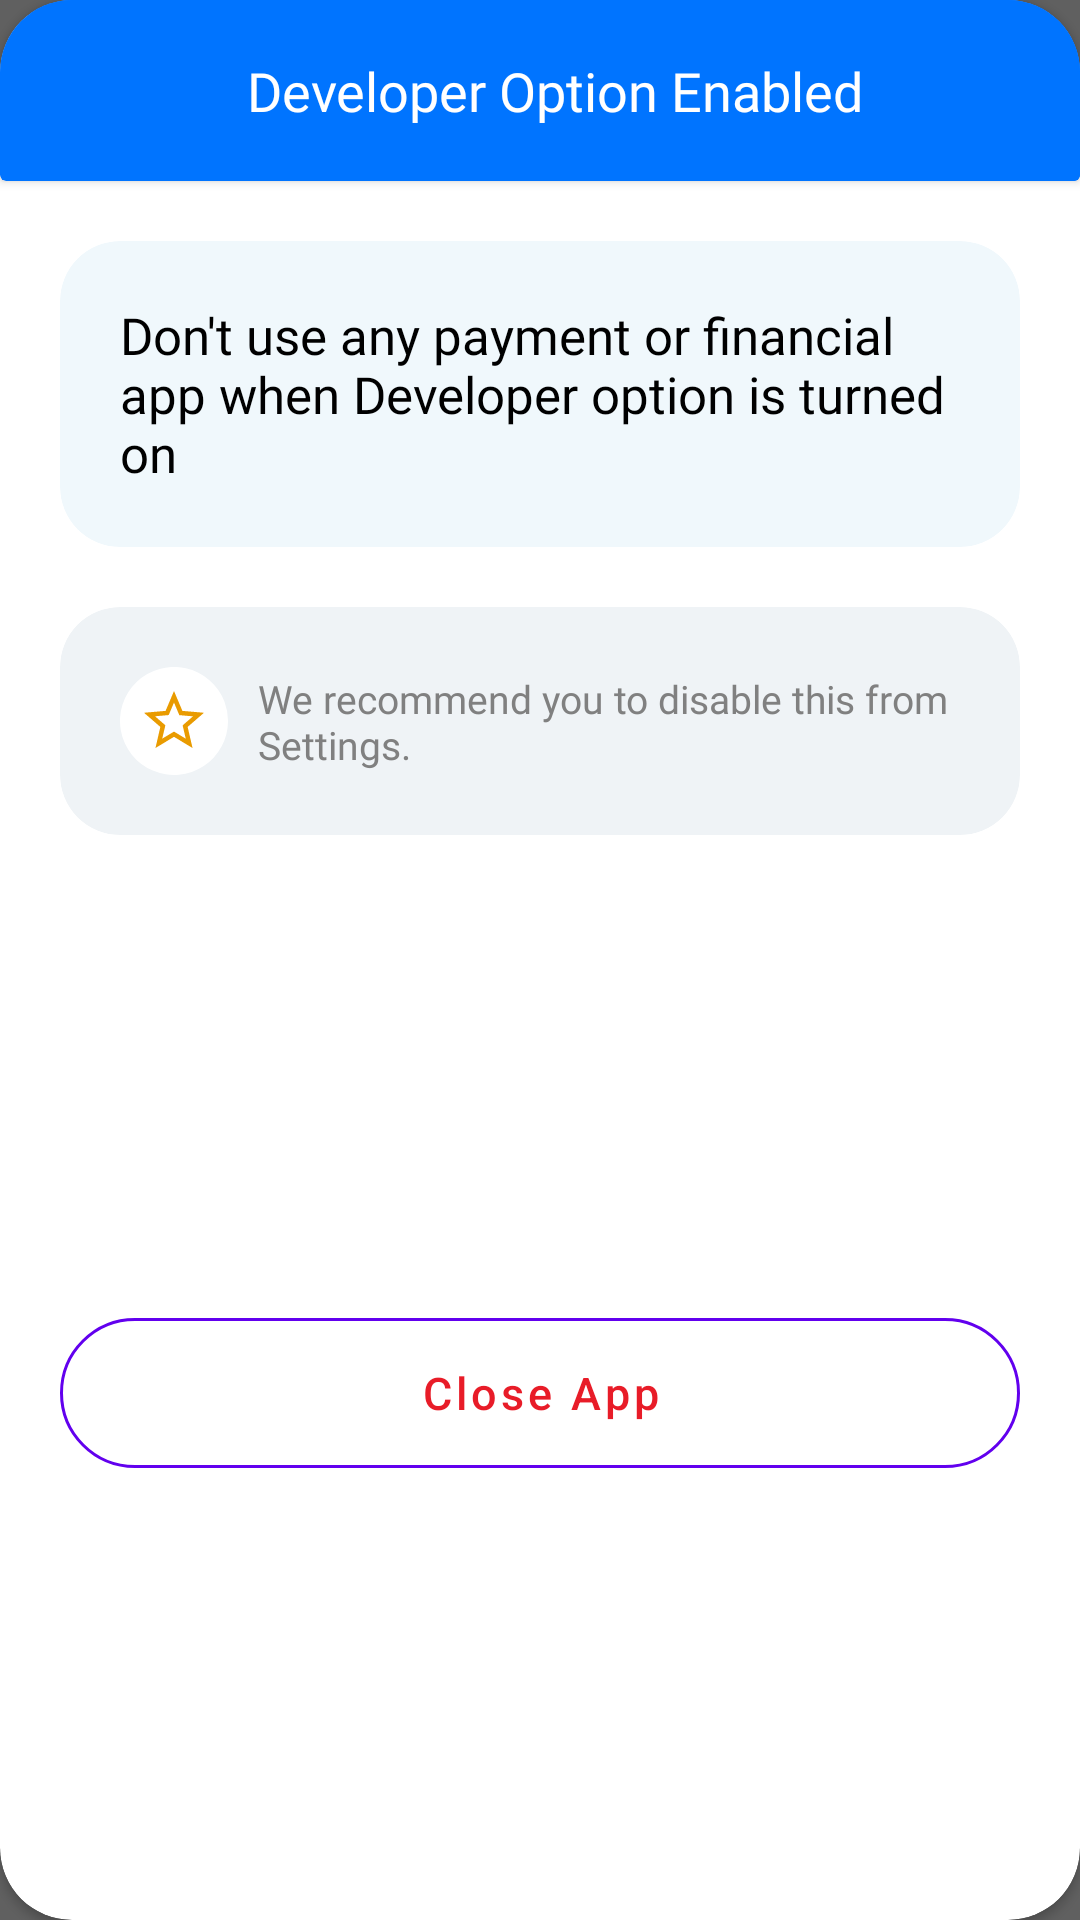

Screen size 1080x1920. Icon name, then its box in pixels as bbox(x1, y1, x2, y2):
ap iv star: bbox(120, 667, 228, 775)
